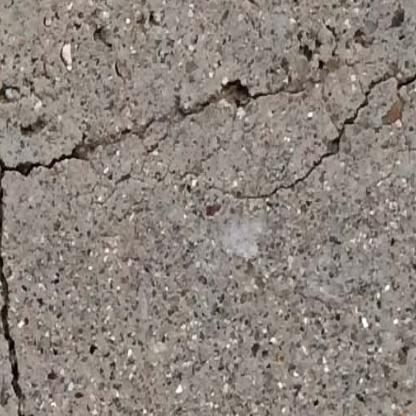Cracks: (0, 130, 106, 416), (240, 67, 416, 205), (174, 77, 311, 122)
